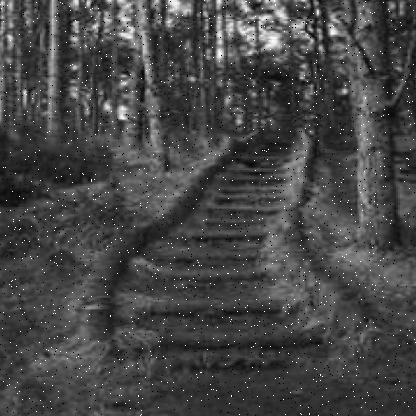stair_up: (96, 228, 361, 365)
